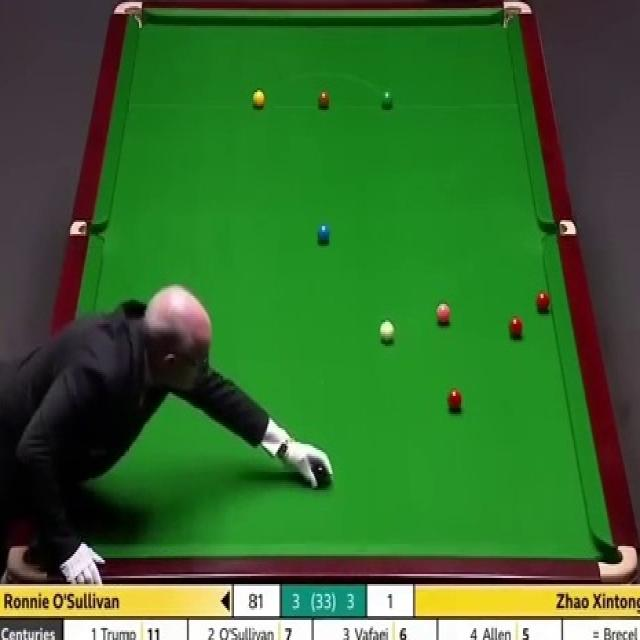pocket: (594, 543, 637, 582), (501, 0, 530, 32), (113, 0, 143, 28), (67, 220, 105, 234), (540, 220, 574, 235)
